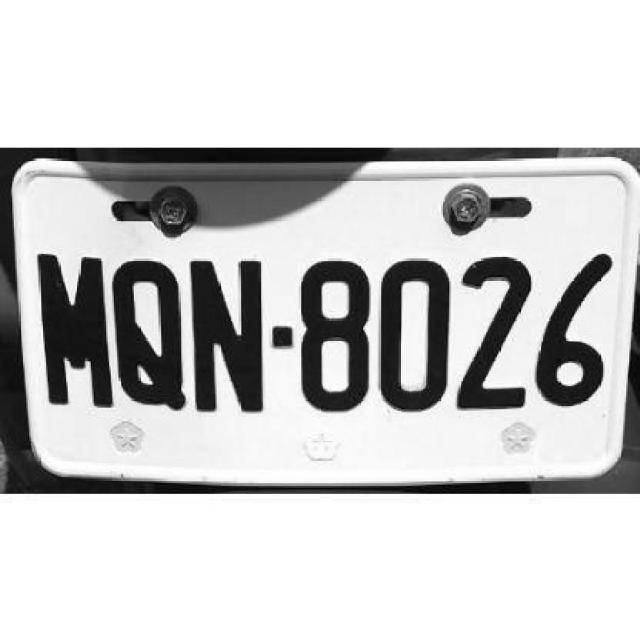-: (271, 320, 294, 349)
0: (376, 249, 452, 420)
2: (454, 251, 531, 415)
6: (532, 246, 614, 411)
8: (295, 248, 374, 417)
M: (31, 245, 114, 412)
N: (188, 248, 268, 422)
Q: (112, 251, 190, 418)
